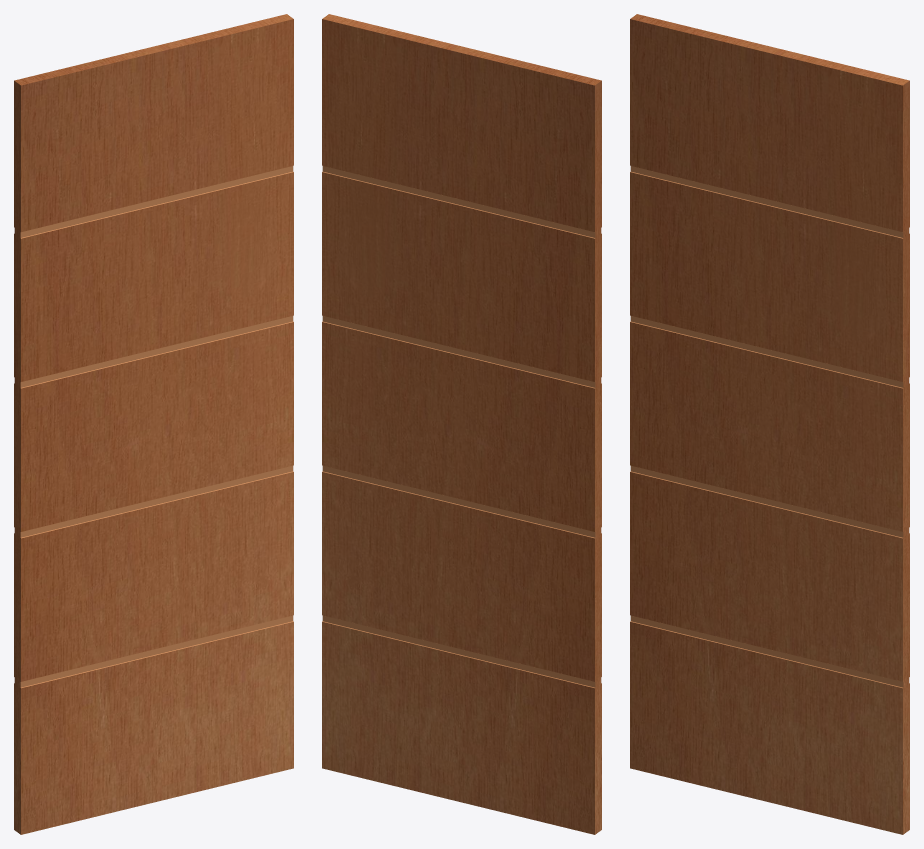
Rendered from Porta_frizzata_4f.fbx.
The picture shows the model from 3 angles, left to right: view 1: azimuth 30°, elevation 25°; view 2: azimuth 150°, elevation 25°; view 3: azimuth 330°, elevation 25°; orthographic projection.
Parts seen in each view (by area): view 1: Frizzata_4f; view 2: Frizzata_4f; view 3: Frizzata_4f.
Part boxes in pixels (x1,y1,x2,y2): Frizzata_4f: [14, 14, 293, 834]; Frizzata_4f: [322, 14, 601, 834]; Frizzata_4f: [630, 14, 909, 834].
Bounding box in the file's own units: 80 × 210 × 3.5.
